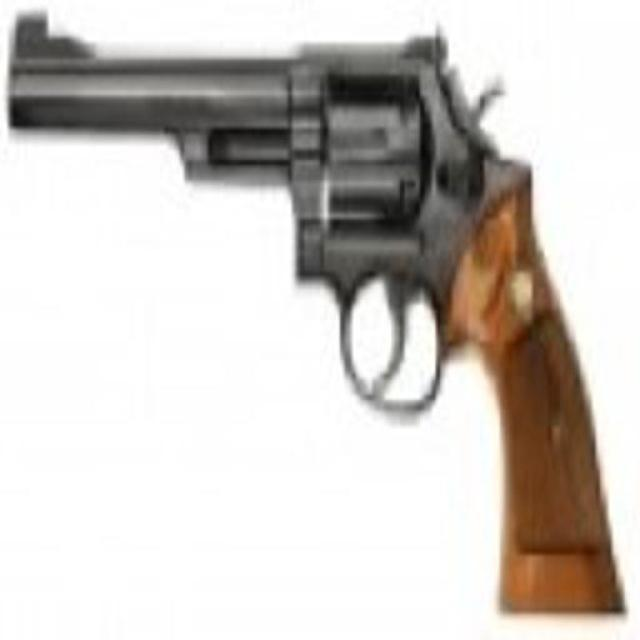pistol: (7, 15, 627, 612)
